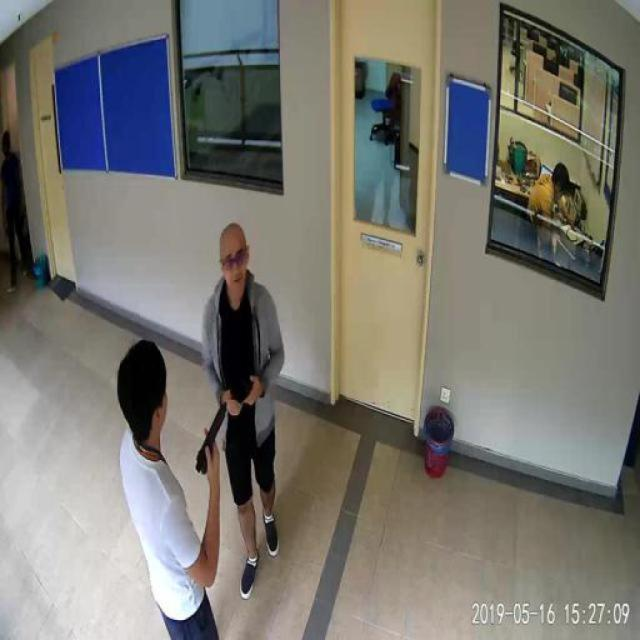pistol: (194, 400, 226, 474)
